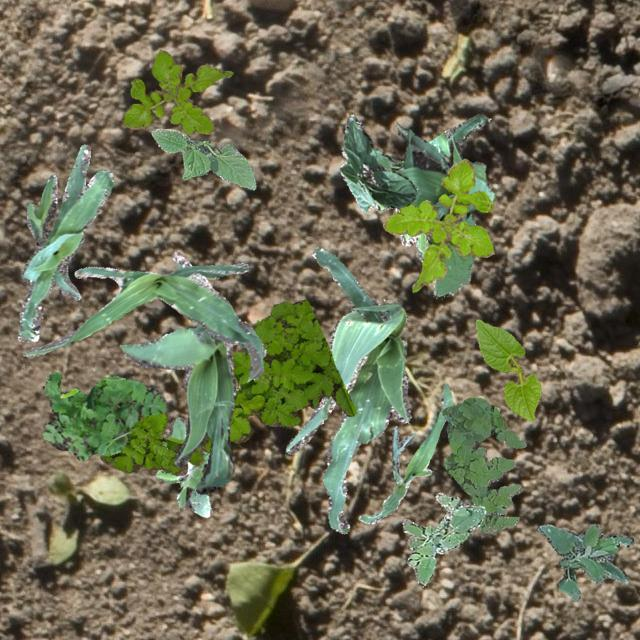crop: (284, 247, 410, 532), (120, 250, 266, 492), (24, 262, 262, 381), (17, 144, 112, 340), (373, 112, 485, 252), (358, 382, 452, 522), (396, 121, 494, 222), (338, 114, 416, 210), (474, 318, 540, 421), (150, 128, 254, 188)
weed: (100, 298, 356, 474), (372, 147, 474, 296), (382, 158, 493, 292), (442, 396, 526, 532), (42, 370, 166, 460), (120, 48, 232, 134), (402, 492, 486, 584), (536, 522, 632, 600), (156, 416, 212, 516)
